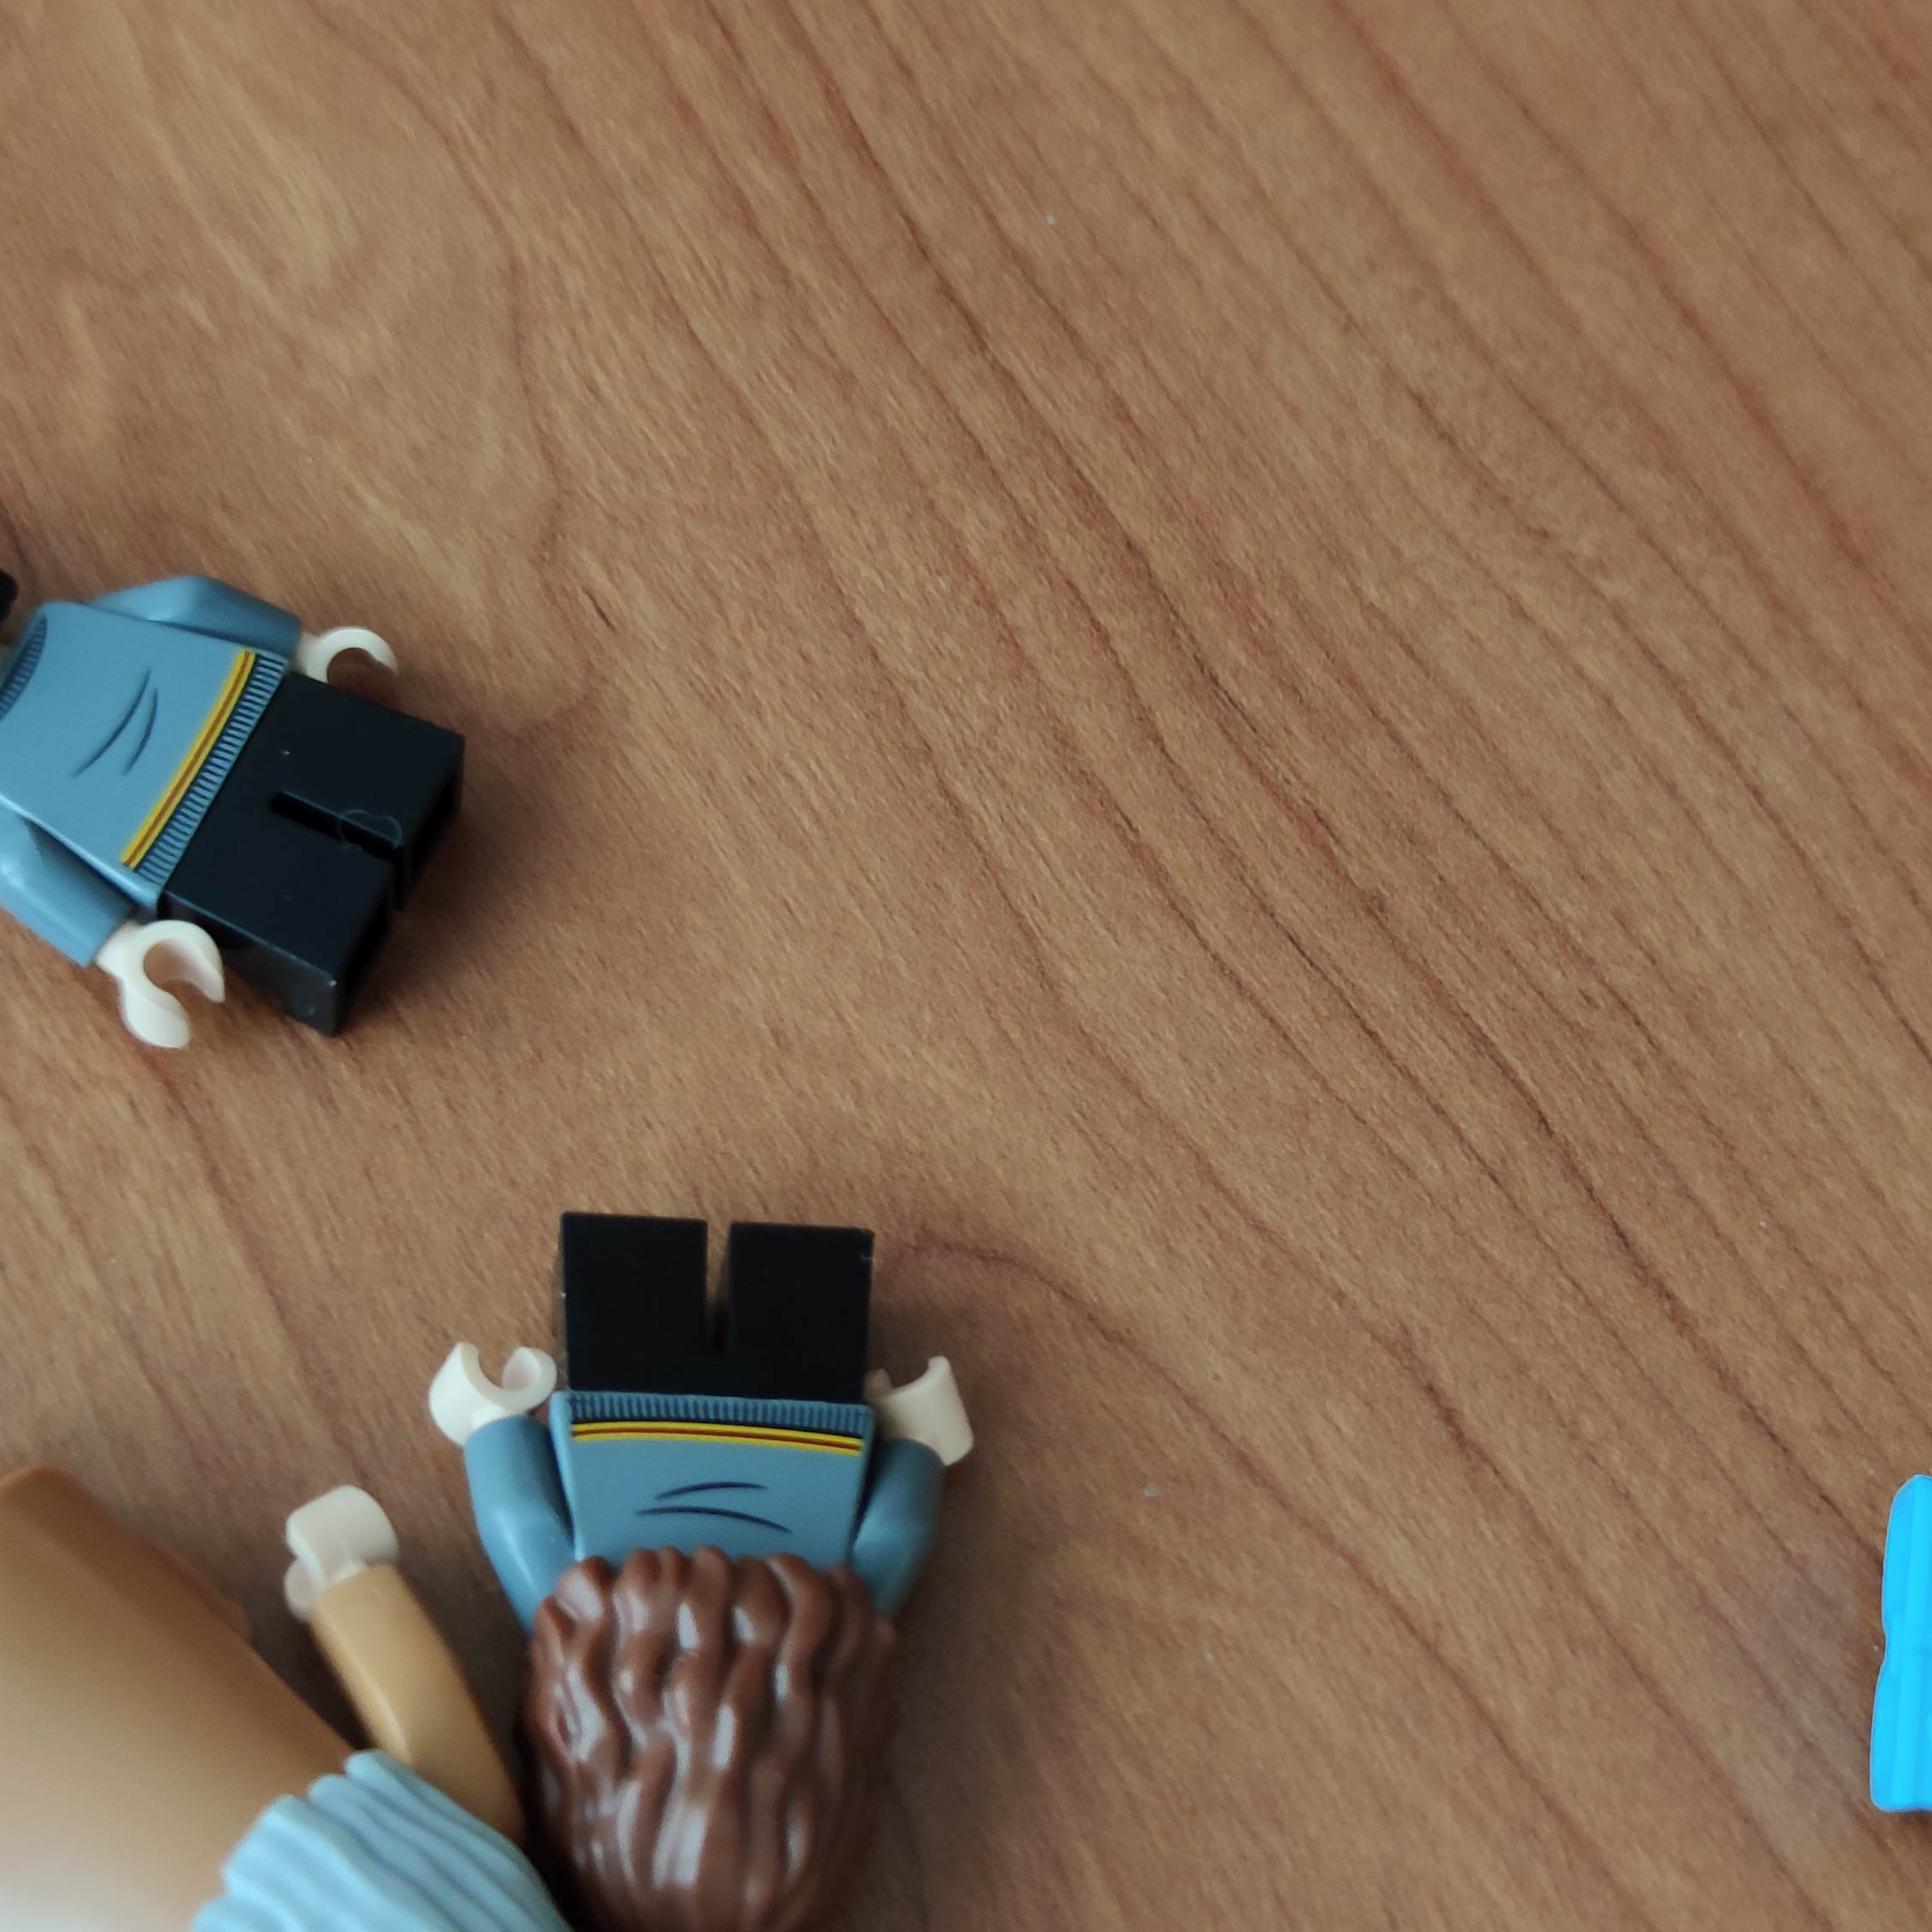lego: (423, 1215, 971, 1932), (0, 573, 469, 1063)
